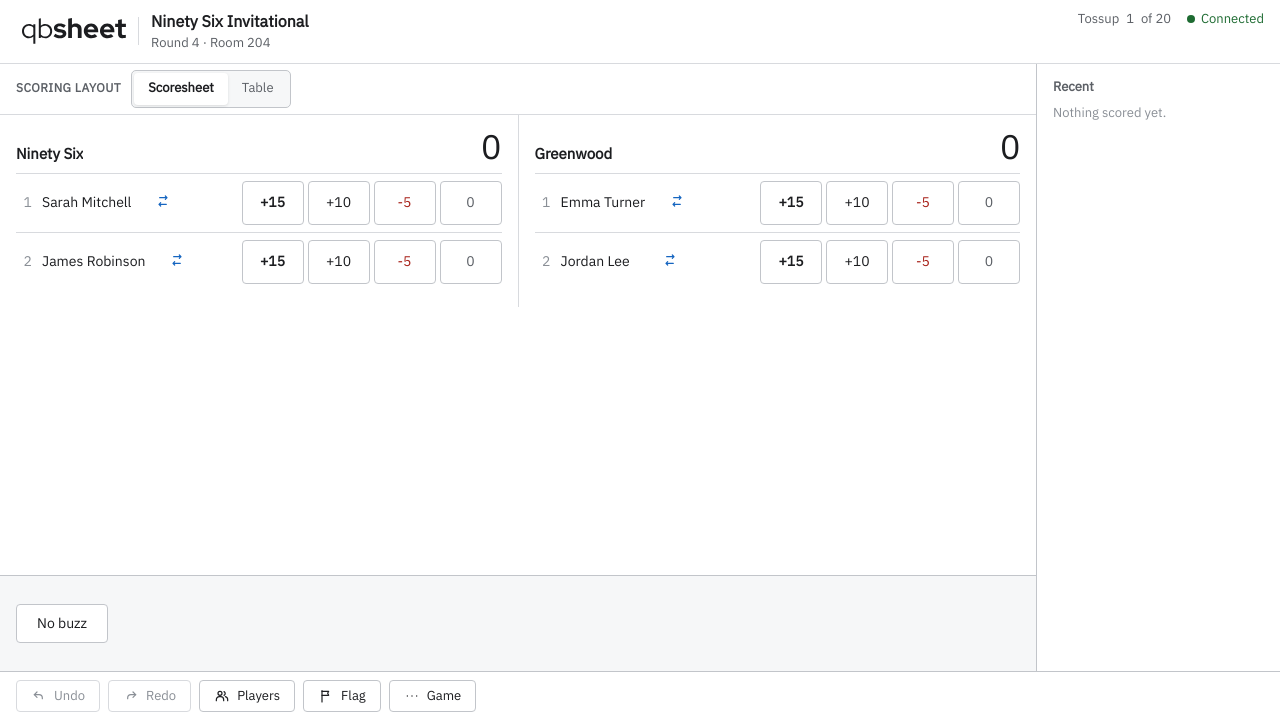
Scenario: scoring a tossup › recording the bonus scores it and returns to the next tossup
Click the button "+10" in the row of "Sarah Mitchell" at (338, 203), box left=308, top=181, right=370, bottom=225
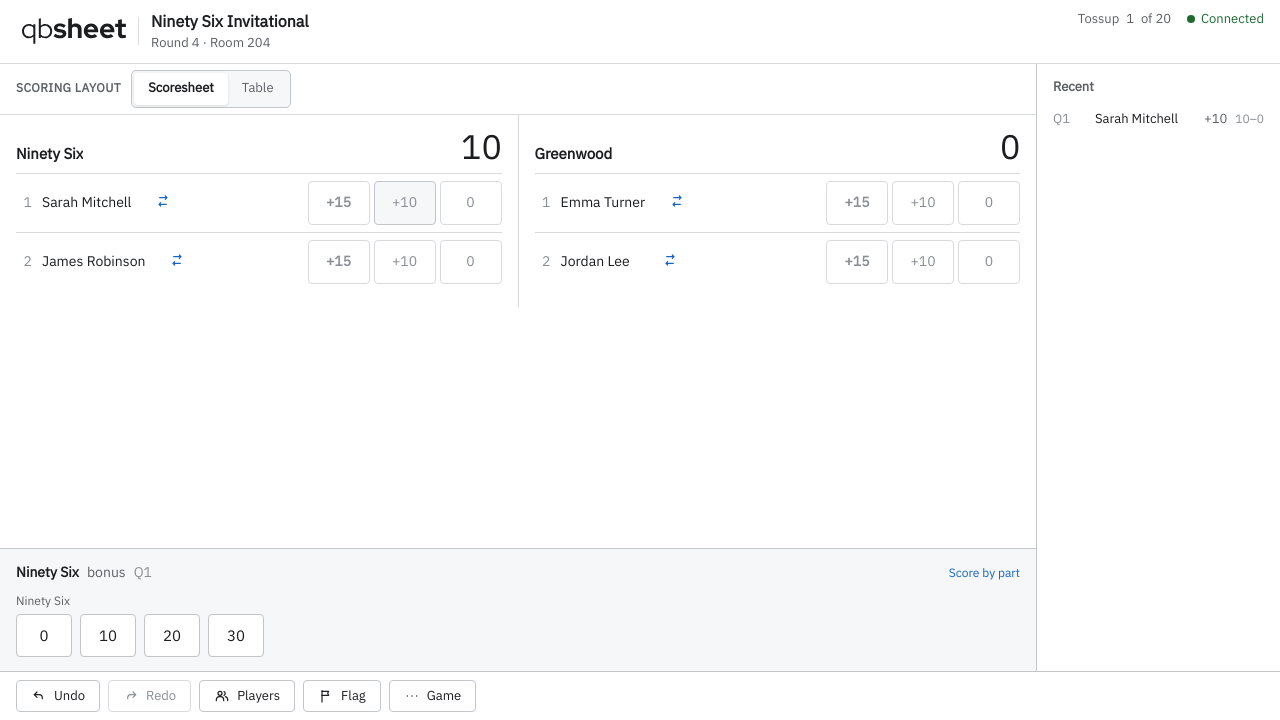
Click the button "20" at (172, 635), box left=144, top=614, right=200, bottom=657
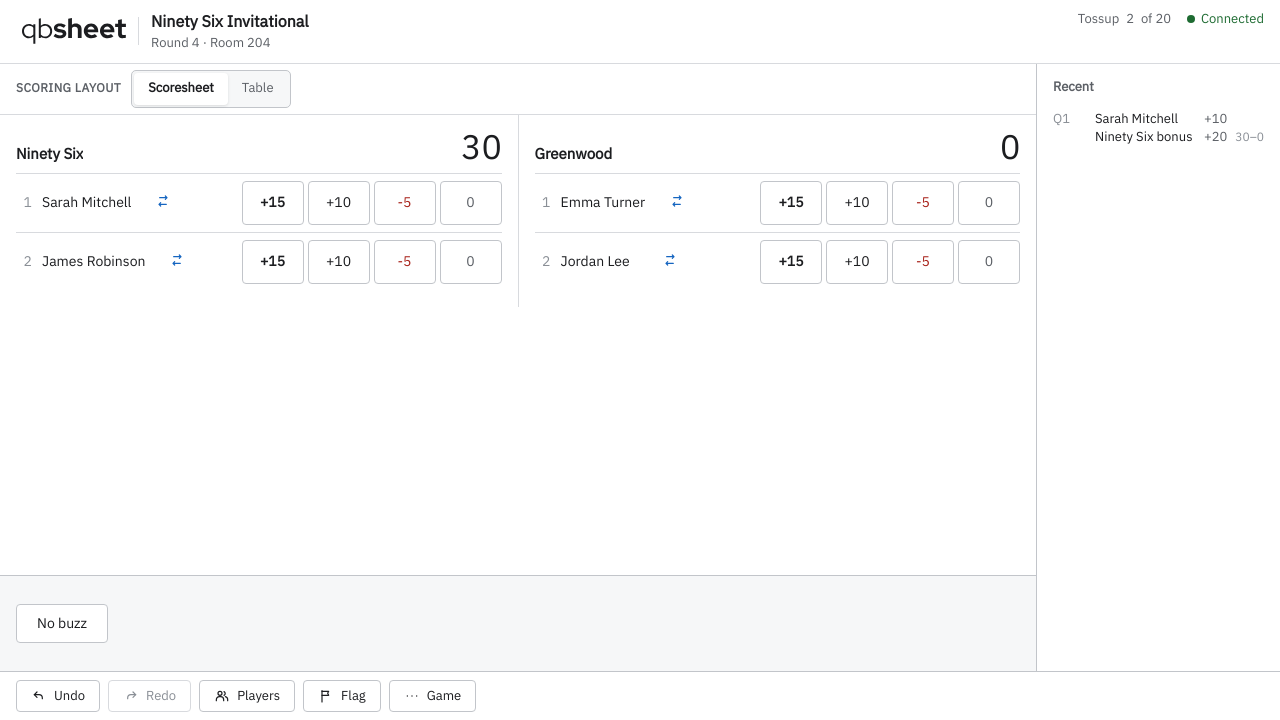
expect the text "Tossup 2 of 20" is shown: met, box left=1078, top=10, right=1171, bottom=27
